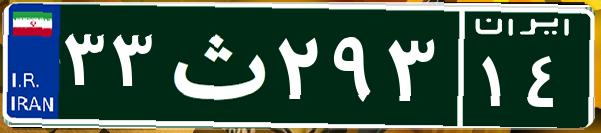1: (475, 38, 525, 113)
2: (273, 28, 330, 110)
3: (385, 28, 445, 110), (57, 26, 110, 107), (110, 28, 158, 105)
4: (525, 38, 570, 115)
9: (330, 28, 385, 110)
ث: (158, 15, 273, 115)
